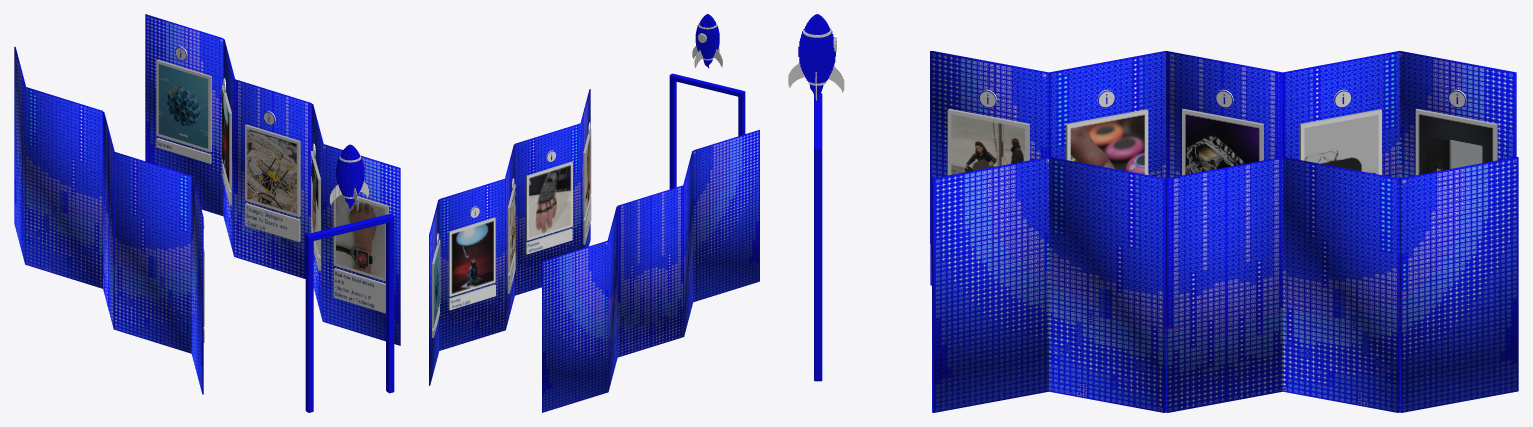
File: PortaleAR.glb
3 views of the same model, side by side, from view 1: azimuth 30°, elevation 25°; view 2: azimuth 150°, elevation 25°; view 3: azimuth 270°, elevation 25° (orthographic). The views are drawn at different scales.
Visible parts, largest first — view 1: Object_9, Object_8, Object_1.007, Object_1.006, portale.002, Object_1, Object_1.018, 04, Object_1.017, Object_1.009, Object_1.008, Object_1.013; view 2: Object_9, Object_8, Object_1.008, Object_1.009, portale.002, 04, Object_1, Object_1.006, Object_1.007, Object_1.019, Object_1.020; view 3: Object_8, Object_9, Object_1.005, Object_1.002, Object_1.003, Object_1.001, Object_1.004, 04, portale.002.
Boxes of the visible parts, x1,y1,x2,y2 form: Object_9: (14, 46, 203, 394); Object_8: (145, 14, 400, 345); Object_1.007: (156, 59, 211, 152); Object_1.006: (245, 124, 300, 216); portale.002: (305, 213, 394, 412); Object_1: (333, 194, 388, 281); Object_1.018: (333, 268, 385, 313); 04: (329, 144, 368, 210); Object_1.017: (245, 203, 300, 241); Object_1.009: (222, 85, 231, 188); Object_1.008: (311, 151, 320, 254); Object_1.013: (156, 138, 211, 163); Object_9: (542, 129, 759, 412); Object_8: (429, 89, 590, 385); Object_1.008: (525, 161, 572, 240); Object_1.009: (448, 217, 495, 296); portale.002: (669, 73, 745, 189); 04: (692, 14, 722, 68); Object_1: (583, 129, 591, 217); Object_1.006: (507, 184, 515, 272); Object_1.007: (432, 239, 440, 327); Object_1.019: (448, 284, 495, 310); Object_1.020: (525, 228, 572, 254); Object_8: (932, 157, 1518, 412); Object_9: (930, 51, 1516, 285); Object_1.005: (947, 108, 1029, 175); Object_1.002: (1415, 109, 1497, 175); Object_1.003: (1066, 109, 1148, 174); Object_1.001: (1182, 108, 1263, 175); Object_1.004: (1299, 109, 1381, 174); 04: (788, 14, 844, 100); portale.002: (814, 93, 822, 381).
Size of the model in its own units: 3.52 by 4.35 by 8.48.
Materials: 45 (22 with a texture image).
